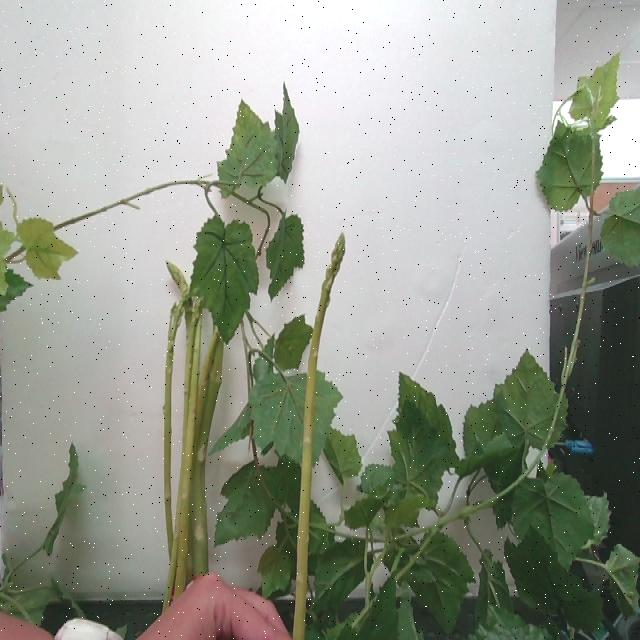aspargus: (291, 230, 345, 640)
